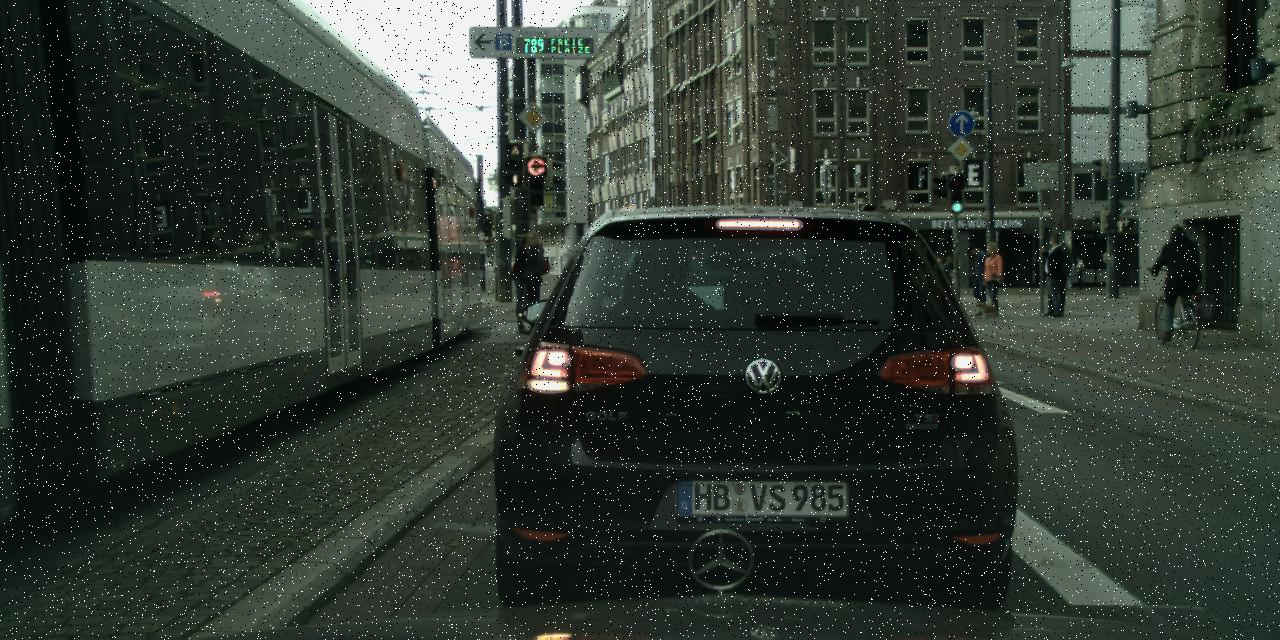ped: (1156, 224, 1199, 330), (511, 229, 553, 333), (507, 234, 546, 332), (1038, 233, 1072, 315), (1038, 236, 1070, 316), (978, 241, 1008, 316), (961, 243, 990, 314), (929, 254, 948, 298), (940, 256, 958, 300), (1059, 254, 1073, 289), (1072, 256, 1086, 289)
